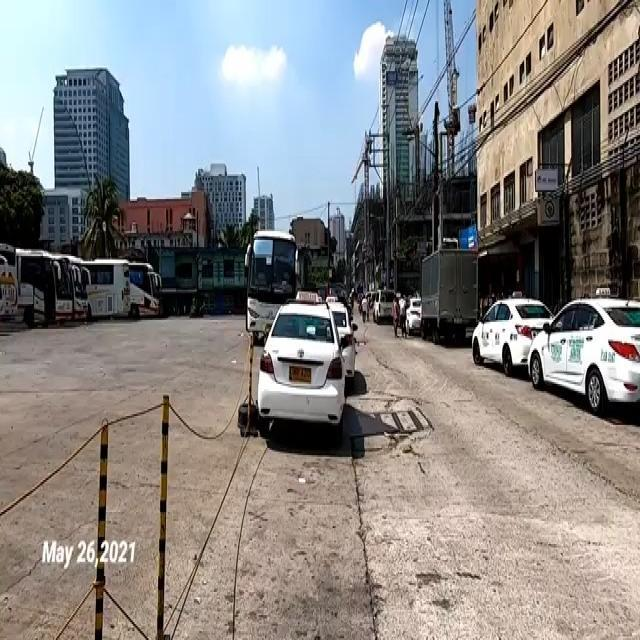bus: (244, 226, 300, 340), (21, 252, 72, 324), (90, 255, 132, 315), (130, 260, 162, 320), (0, 243, 21, 330), (71, 253, 90, 318)
car: (525, 287, 640, 413), (258, 298, 347, 440), (474, 294, 554, 374)
truck: (418, 244, 482, 346)
